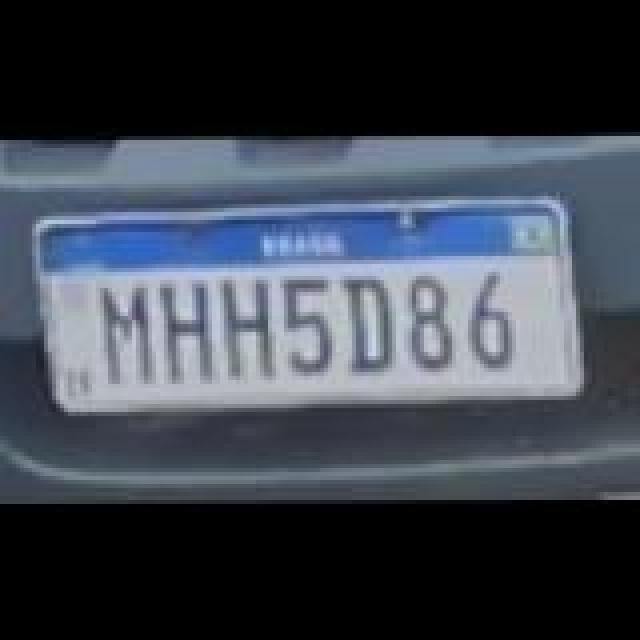5: (282, 272, 342, 372)
6: (466, 272, 518, 372)
8: (404, 274, 460, 370)
D: (342, 274, 402, 370)
H: (156, 278, 220, 382), (218, 274, 278, 378)
M: (96, 280, 160, 384)
